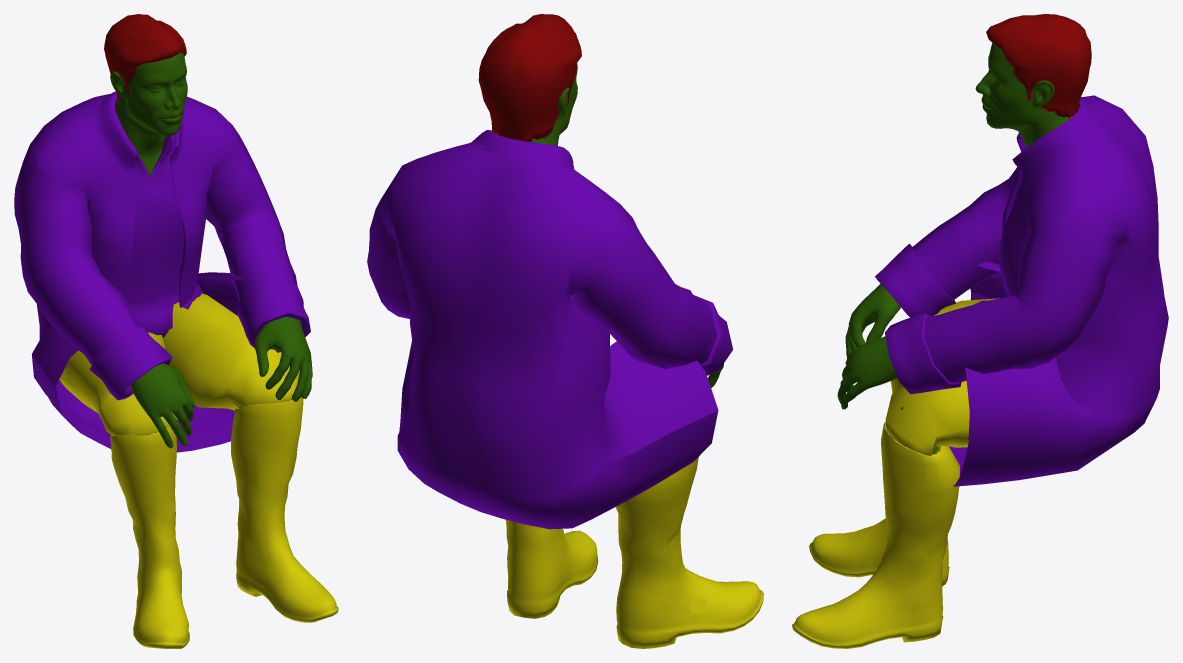
Rendered from Parliamentarian Sitting_Low.fbx.
3 renders of one model, left to right at view 1: azimuth 30°, elevation 25°; view 2: azimuth 150°, elevation 25°; view 3: azimuth 270°, elevation 25°, orthographic. The views are drawn at different scales.
Visible parts, largest first — view 1: Tops1, Shoes, Bottoms1, Body, Tops, Hair1; view 2: Tops1, Shoes, Hair1, Body; view 3: Tops1, Shoes, Body, Hair1, Bottoms1.
Boxes of the visible parts, x1=… form: Tops1: x1=14, y1=91, x2=310, y2=452; Shoes: x1=110, y1=397, x2=338, y2=648; Bottoms1: x1=59, y1=293, x2=299, y2=434; Body: x1=110, y1=52, x2=312, y2=448; Tops: x1=87, y1=134, x2=184, y2=337; Hair1: x1=104, y1=14, x2=186, y2=101; Tops1: x1=367, y1=130, x2=732, y2=529; Shoes: x1=505, y1=457, x2=763, y2=648; Hair1: x1=478, y1=14, x2=581, y2=141; Body: x1=491, y1=63, x2=723, y2=387; Tops1: x1=875, y1=95, x2=1168, y2=486; Shoes: x1=792, y1=378, x2=959, y2=648; Body: x1=837, y1=43, x2=1075, y2=453; Hair1: x1=986, y1=14, x2=1091, y2=118; Bottoms1: x1=885, y1=298, x2=999, y2=456.
Size of the model in its own units: 66.69 by 137 by 79.89.
